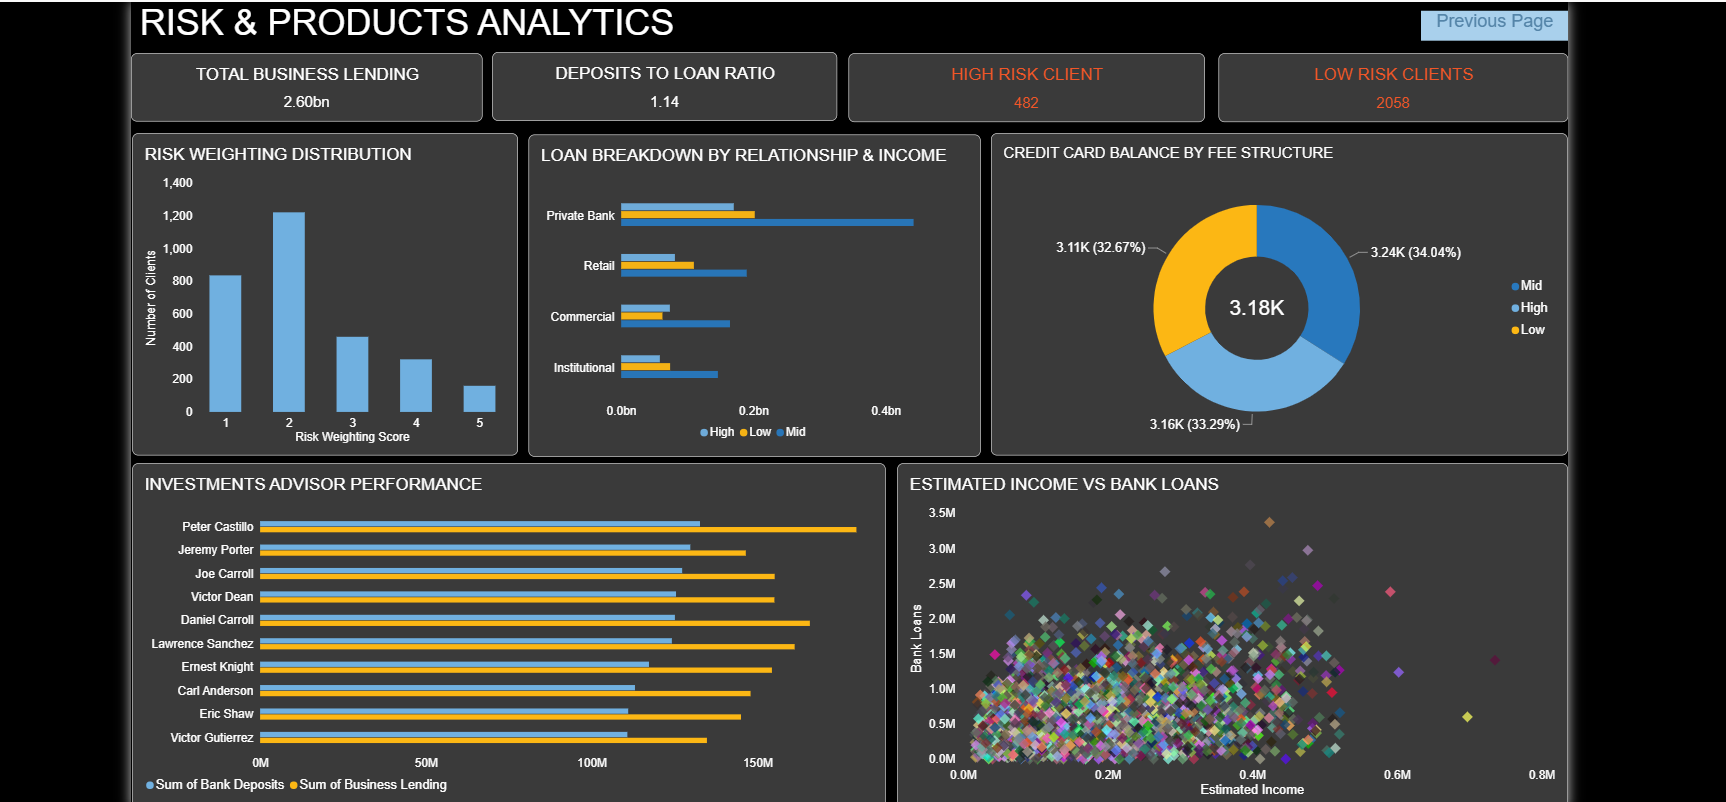

Layout of this report page (visuals, bound fields, positions):
{"tool":"powerbi","page":{"name":"Page 3","canvas":[1920,1080],"ordinal":2},"visuals":[{"type":"textbox","box":[10.9,0,821.6,59.7],"z":0},{"type":"card","title":"TOTAL BUSINESS LENDING","fields":{"Values":["Sum(banking_merged.Business Lending)"]},"box":[0,69.3,469.6,90.9],"z":1000},{"type":"card","title":"DEPOSITS TO LOAN RATIO","fields":{"Values":["banking_merged.Deposit to Loan Ratio"]},"box":[483.2,67,460.8,91.7],"z":2000},{"type":"card","title":"LOW RISK CLIENTS","fields":{"Values":["banking_merged.Low Risk Clients"]},"box":[1452.8,68.3,467.2,91.7],"z":3000},{"type":"card","title":"HIGH RISK CLIENT ","fields":{"Values":["banking_merged.High Risk Clients"]},"box":[959.1,68.8,475.7,91.7],"z":4000},{"type":"clusteredColumnChart","title":"RISK WEIGHTING DISTRIBUTION","fields":{"Category":["banking_merged.Risk Weighting"],"Y":["CountNonNull(banking_merged.Client ID)"]},"box":[2.2,175.3,515.1,430.7],"z":5000},{"type":"clusteredBarChart","title":"LOAN BREAKDOWN BY RELATIONSHIP & INCOME ","fields":{"Category":["banking_merged.Banking Relationship"],"Series":["banking_merged.Income Band"],"Y":["Sum(banking_merged.Bank Loans)"]},"box":[530.2,177.5,603.8,430.7],"z":6000},{"type":"clusteredBarChart","title":"INVESTMENTS ADVISOR PERFORMANCE","fields":{"Category":["banking_merged.Investment Advisor"],"Y":["Sum(banking_merged.Bank Deposits)","Sum(banking_merged.Business Lending)"]},"box":[2.2,616.8,1006.3,463.1],"z":7000},{"type":"actionButton","title":"Previous Page","box":[1722.8,10.9,197.3,39.8],"z":8000},{"type":"donutChart","title":"CREDIT CARD BALANCE BY FEE STRUCTURE","fields":{"Category":["banking_merged.Fee Structure"],"Y":["Avg(banking_merged.Credit Card Balance)"]},"box":[1149.2,175.3,770.4,430.7],"z":9000},{"type":"scatterChart","title":"ESTIMATED INCOME VS BANK LOANS","fields":{"Series":["banking_merged.Client ID"],"X":["Sum(banking_merged.Estimated Income)"],"Y":["Sum(banking_merged.Bank Loans)"]},"box":[1023.6,616.8,896,463.1],"z":10000}]}

Visuals, with their boxes on the page's 1920x1080 design canvas (x1, y1, x2, y2). These are canvas units, not pixel positions in the 1726x802 screenshot, which may show the page scaled, cropped or inside an application window:
textbox: 11,0,832,60
"TOTAL BUSINESS LENDING" card: 0,69,470,160
"DEPOSITS TO LOAN RATIO" card: 483,67,944,159
"LOW RISK CLIENTS" card: 1453,68,1920,160
"HIGH RISK CLIENT " card: 959,69,1435,160
"RISK WEIGHTING DISTRIBUTION" clusteredColumnChart: 2,175,517,606
"LOAN BREAKDOWN BY RELATIONSHIP & INCOME " clusteredBarChart: 530,178,1134,608
"INVESTMENTS ADVISOR PERFORMANCE" clusteredBarChart: 2,617,1008,1080
"Previous Page" actionButton: 1723,11,1920,51
"CREDIT CARD BALANCE BY FEE STRUCTURE" donutChart: 1149,175,1920,606
"ESTIMATED INCOME VS BANK LOANS" scatterChart: 1024,617,1920,1080
